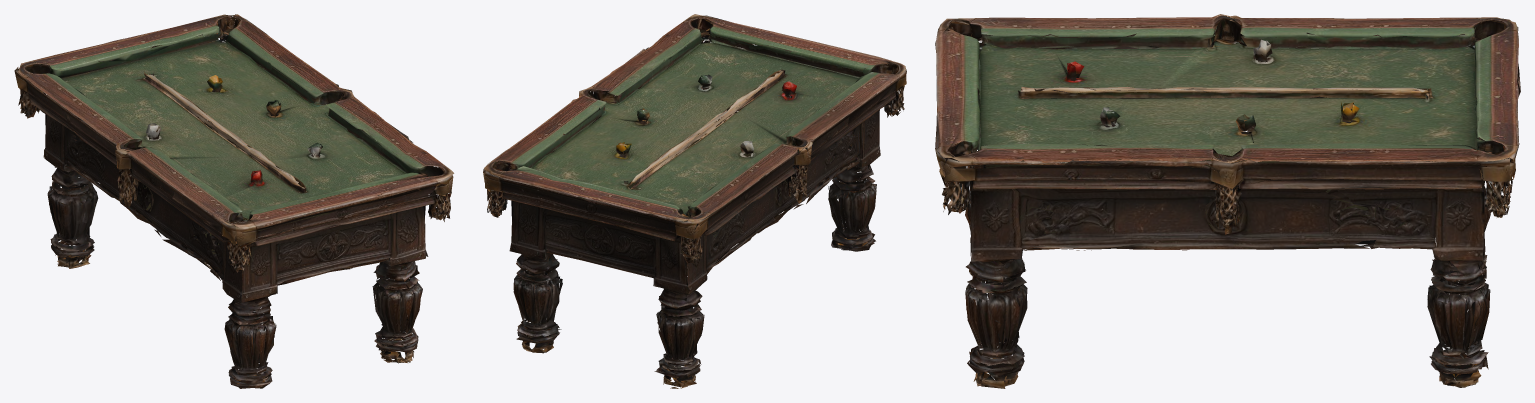
The model's file is BilliardTable.fbx.
3 renders of one model, left to right at view 1: azimuth 30°, elevation 25°; view 2: azimuth 150°, elevation 25°; view 3: azimuth 270°, elevation 25°, orthographic. The views are drawn at different scales.
Visible parts, largest first — view 1: BilliardTable; view 2: BilliardTable; view 3: BilliardTable.
Part boxes in pixels (x1,y1,x2,y2): BilliardTable: (14, 14, 454, 388); BilliardTable: (483, 14, 906, 388); BilliardTable: (935, 14, 1520, 388).
Size of the model in its own units: 61.02 by 47.89 by 101.
1 material, 1 textured.
